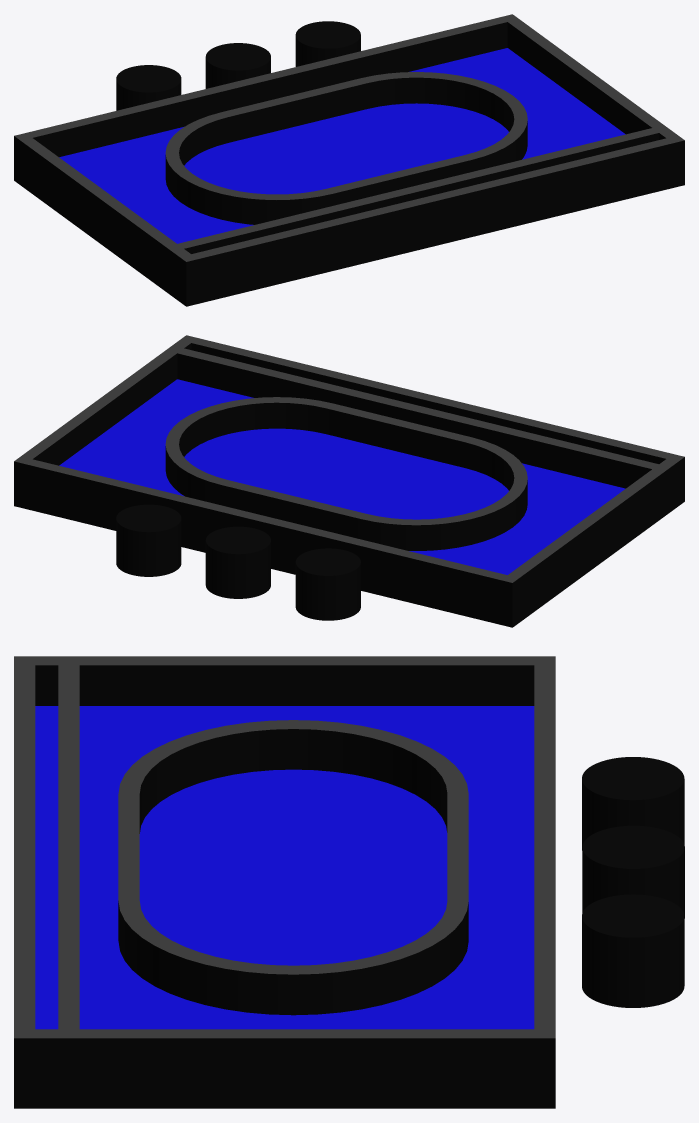
File: ORBAT_FRIENDLY_white_eye_ooo.dae
The picture shows the model from 3 angles, top to bottom: view 1: azimuth 30°, elevation 25°; view 2: azimuth 150°, elevation 25°; view 3: azimuth 270°, elevation 25°; orthographic projection. The views are drawn at different scales.
Parts seen in each view (by area): view 1: SM_ORBAT_-_WhiteEye_path1763-2.298; view 2: SM_ORBAT_-_WhiteEye_path1763-2.298; view 3: SM_ORBAT_-_WhiteEye_path1763-2.298.
Boxes of the visible parts, <box> form: SM_ORBAT_-_WhiteEye_path1763-2.298: <box>14,14,684,306</box>; SM_ORBAT_-_WhiteEye_path1763-2.298: <box>14,335,684,627</box>; SM_ORBAT_-_WhiteEye_path1763-2.298: <box>14,656,684,1108</box>.
Bounding box in the file's own units: 1.21 × 0.8948 × 0.1034.
